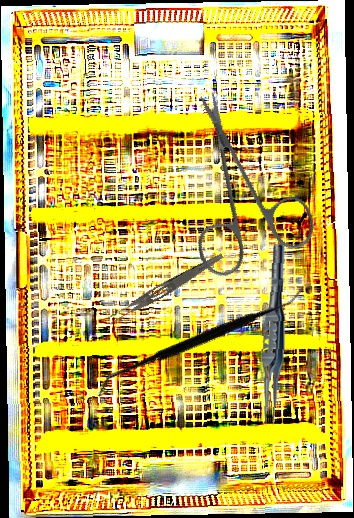Dressing Forceps: (104, 248, 226, 328)
Iris Scissors: (133, 86, 351, 307)
Spatula Surgical: (95, 222, 308, 460)
Tissue Forceps: (258, 243, 290, 427)
